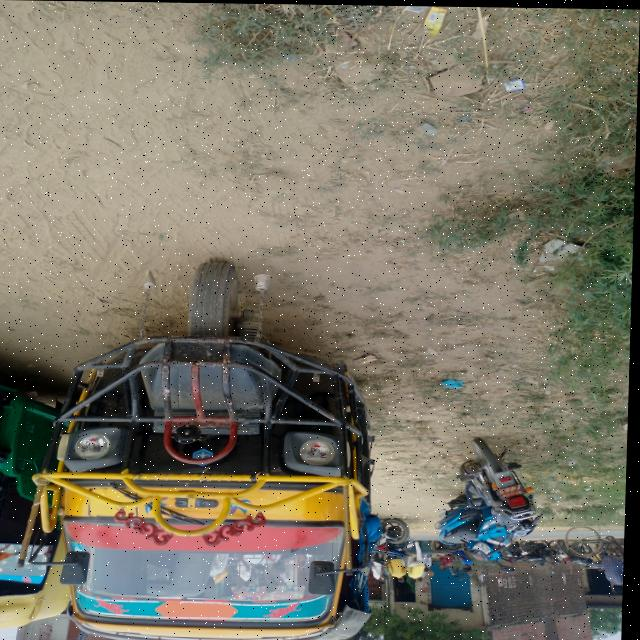plate: (501, 481, 529, 498), (490, 538, 510, 545), (382, 536, 391, 544), (563, 551, 571, 556), (410, 543, 417, 547), (525, 550, 532, 554), (510, 552, 516, 556)
